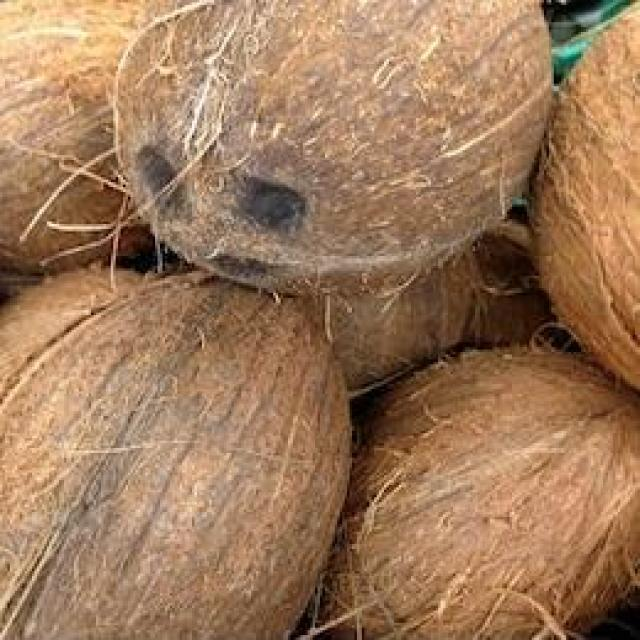coconut: (108, 0, 543, 288), (0, 273, 340, 640)
